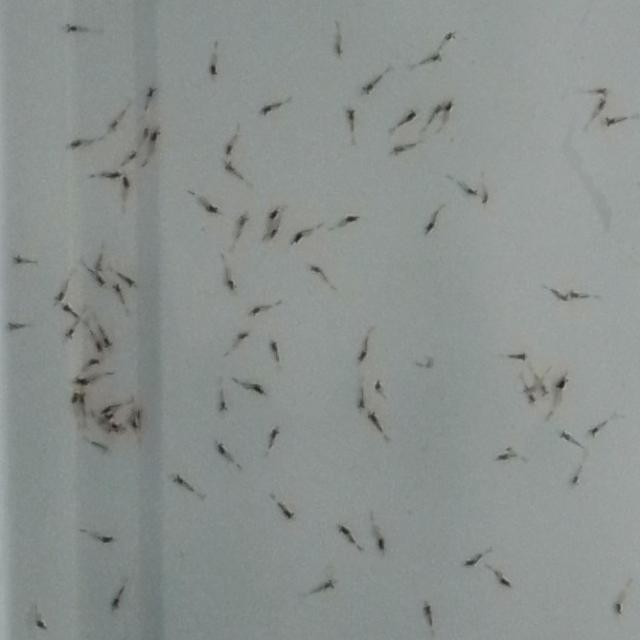shrimp-seed: (318, 576, 336, 594), (592, 98, 610, 114), (62, 20, 80, 36), (72, 372, 90, 388), (172, 472, 188, 489), (510, 349, 529, 363), (443, 28, 459, 44), (494, 448, 510, 464), (593, 84, 610, 99), (554, 376, 568, 394), (125, 272, 139, 290), (612, 598, 625, 617), (375, 534, 387, 554), (338, 522, 353, 538), (51, 290, 66, 306), (250, 382, 267, 396), (332, 41, 344, 60), (602, 115, 618, 129), (359, 82, 375, 96), (390, 142, 406, 156), (206, 200, 220, 216), (568, 472, 582, 488), (464, 556, 480, 570), (280, 504, 294, 520), (93, 440, 109, 454), (100, 532, 116, 546), (31, 618, 47, 632), (344, 212, 361, 225), (215, 438, 227, 456), (64, 324, 76, 342), (462, 184, 477, 198), (424, 219, 438, 234), (498, 574, 512, 589), (12, 252, 27, 266), (95, 272, 108, 288), (479, 190, 491, 207), (260, 102, 274, 116), (106, 168, 120, 182), (570, 287, 584, 301), (560, 429, 574, 443), (208, 62, 220, 78), (292, 228, 304, 244), (225, 276, 237, 292), (356, 397, 368, 413), (422, 601, 433, 618), (431, 50, 444, 64), (70, 136, 84, 149), (119, 175, 132, 189), (223, 160, 237, 173), (112, 283, 125, 297), (538, 385, 550, 400), (268, 339, 280, 354), (269, 426, 281, 441), (93, 338, 105, 353), (238, 210, 249, 226), (432, 104, 444, 118), (345, 106, 357, 120), (145, 86, 157, 100), (148, 129, 160, 143), (310, 263, 324, 275), (356, 349, 368, 363), (217, 398, 229, 412), (62, 300, 74, 314), (111, 424, 125, 436), (110, 596, 122, 610), (70, 391, 80, 407), (131, 416, 141, 432), (404, 109, 416, 122), (586, 425, 598, 438), (250, 304, 262, 317), (7, 319, 19, 332), (268, 208, 279, 222), (100, 410, 114, 421), (527, 392, 537, 407), (368, 409, 378, 424), (78, 392, 88, 407), (224, 142, 236, 154), (126, 148, 138, 160), (267, 228, 279, 240), (556, 291, 568, 303), (522, 385, 534, 397), (238, 330, 250, 342), (88, 356, 100, 368), (108, 118, 119, 131), (104, 335, 114, 349), (93, 260, 104, 272), (140, 125, 150, 138), (373, 378, 382, 392), (444, 100, 454, 112), (100, 404, 112, 412), (136, 408, 144, 418)
